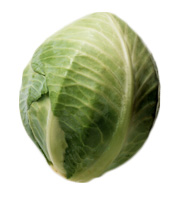cabbage: (16, 9, 165, 184)
